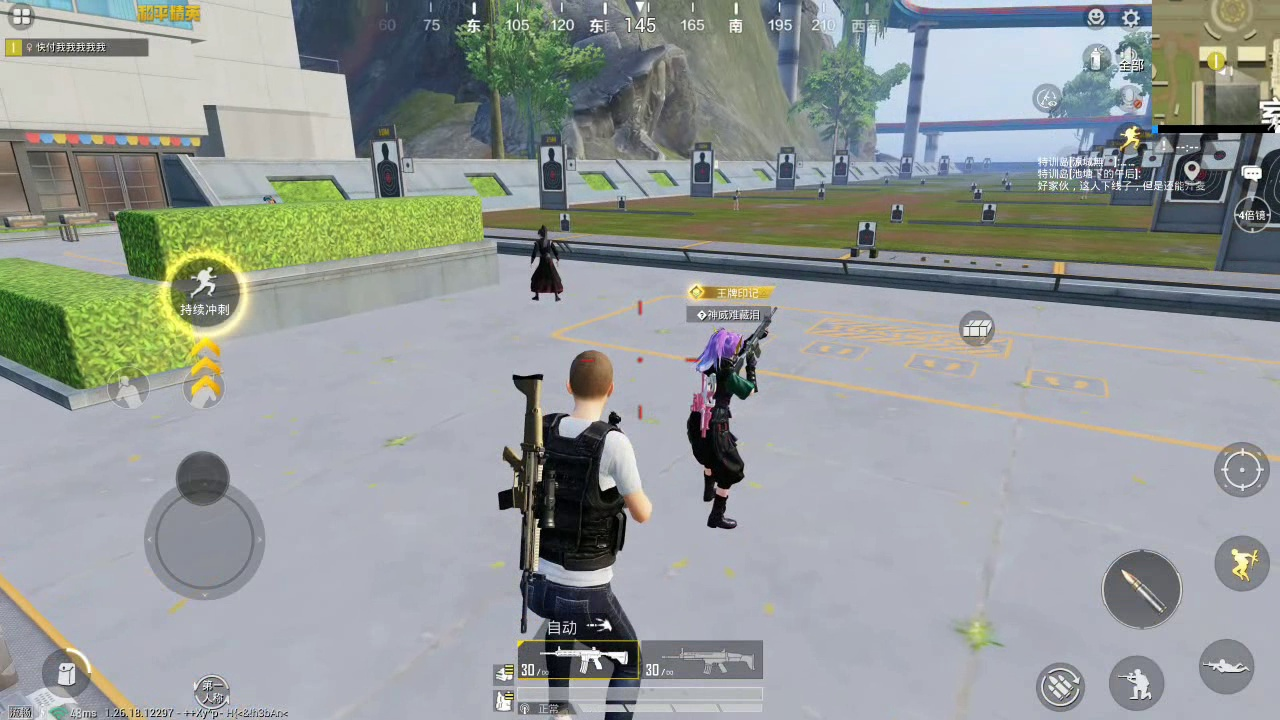enemy: (689, 327, 758, 529), (528, 227, 566, 304)
